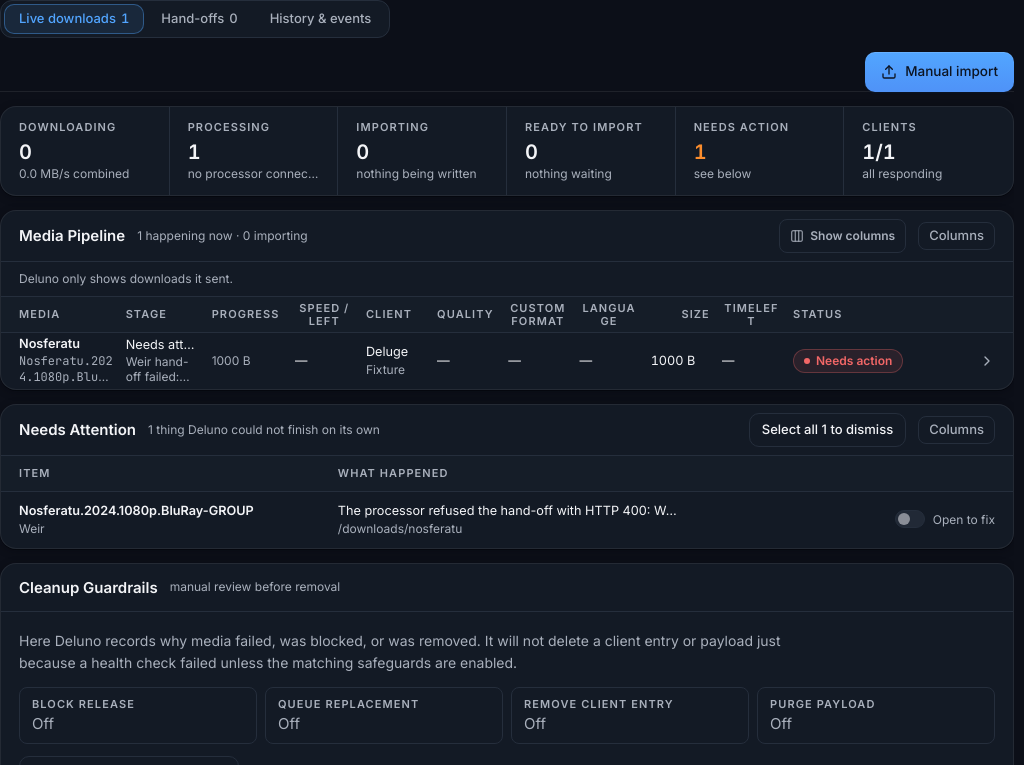
Test: download drawer: a failed processor hand-off (#1151) › offers one send-again button, import original, search for another and dismiss in the download's own drawer
What coordinates should you click on to do the following:
click the text "Nosferatu.2024.1080p.BluRay-GROUP"
I would click on:
 (507, 360)
Its box is [1,332,1013,388].
(page scrolled)
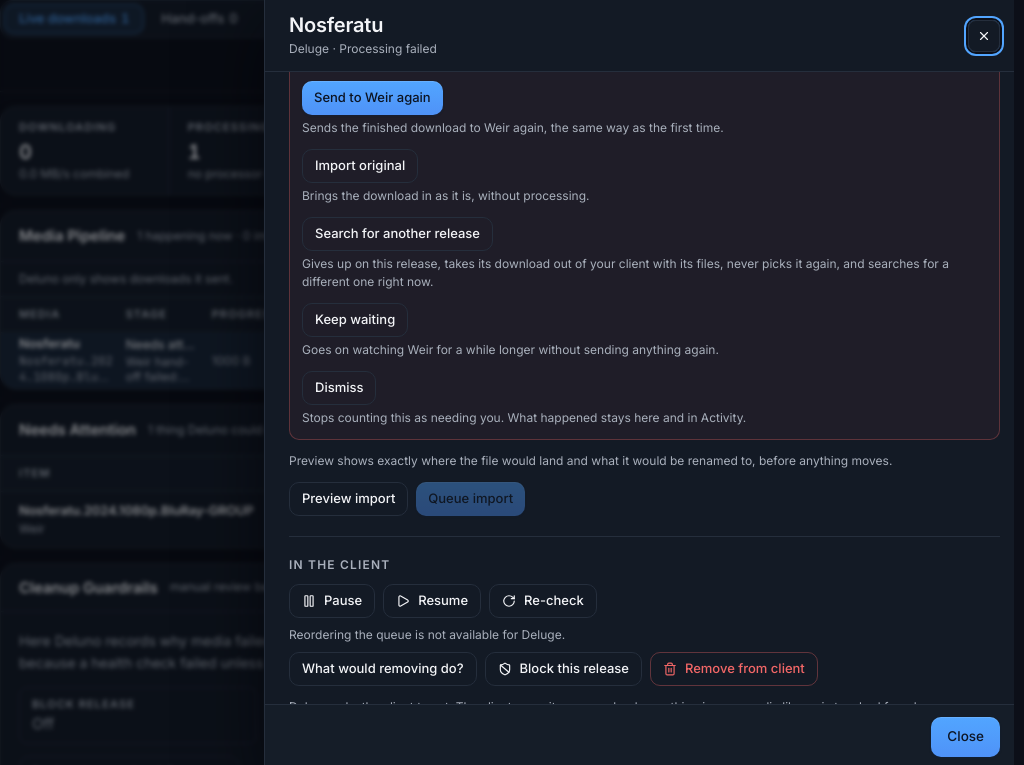
Expected: the number of buttons "Send to Weir again" is 1, [302,81,443,115]
Expected: the button "Import original" is shown, [302,149,418,183]
Expected: the button "Search for another release" is shown, [302,217,493,251]
